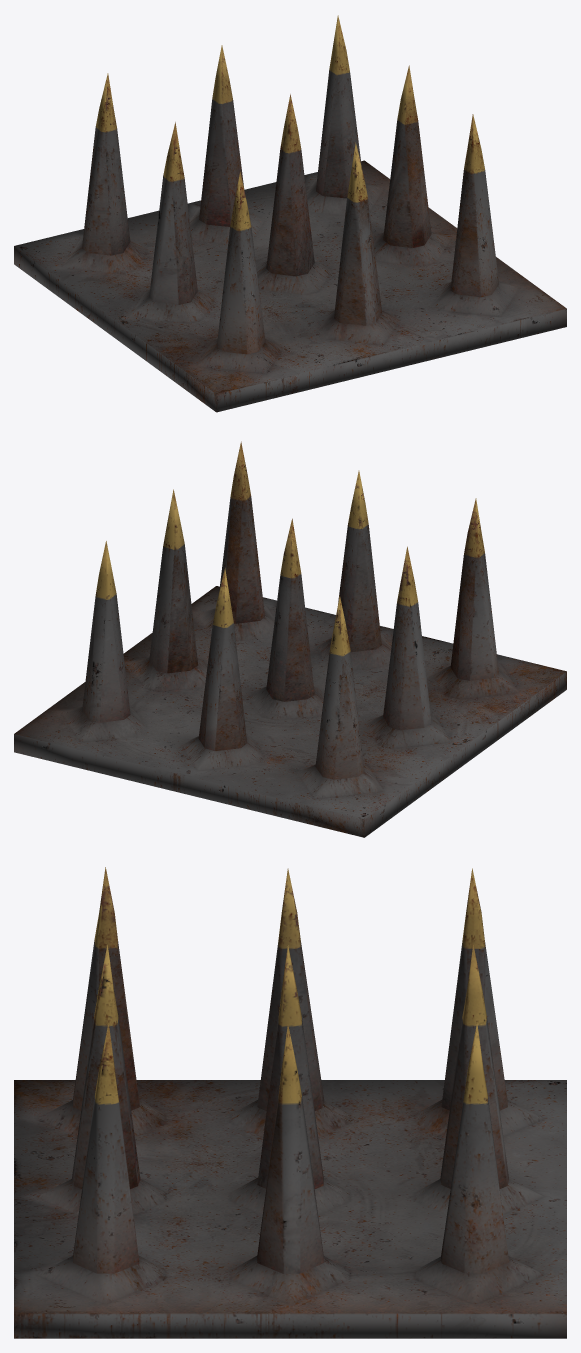
The model's file is Kolce.gltf.
3 views of the same model, one above another, from view 1: azimuth 30°, elevation 25°; view 2: azimuth 150°, elevation 25°; view 3: azimuth 270°, elevation 25° (orthographic). The views are drawn at different scales.
Visible parts, largest first — view 1: Kolce; view 2: Kolce; view 3: Kolce.
Boxes of the visible parts, <box> form: Kolce: <box>14,15,566,412</box>; Kolce: <box>14,441,566,837</box>; Kolce: <box>14,867,566,1338</box>.
Size of the model in its own units: 2 by 1.11 by 2.
Materials: 1 (1 with a texture image).
